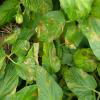Tomato leaf late blight: (33, 58, 70, 99), (63, 64, 97, 97), (36, 8, 66, 45), (38, 39, 59, 77), (72, 46, 99, 74), (13, 54, 39, 83), (64, 20, 84, 55), (9, 38, 31, 59), (3, 28, 20, 46)
